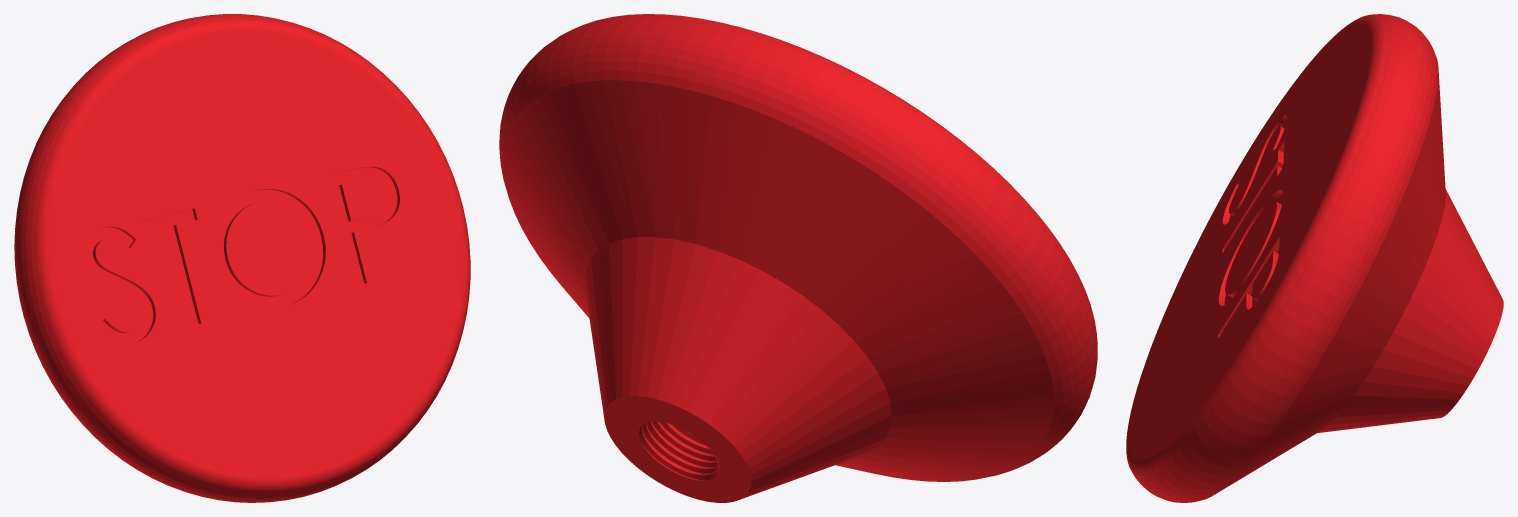
Rendered from BotaoStop.glb.
3 renders of one model, left to right at view 1: azimuth 30°, elevation 25°; view 2: azimuth 150°, elevation 25°; view 3: azimuth 270°, elevation 25°, orthographic. The views are drawn at different scales.
Parts seen in each view (by area): view 1: node_id3; view 2: node_id3; view 3: node_id3.
Boxes of the visible parts, box(x1,y1,x2,y2) form: node_id3: box(14, 14, 470, 502); node_id3: box(499, 14, 1097, 502); node_id3: box(1126, 14, 1503, 502).
Bounding box in the file's own units: 0.5119 × 0.4575 × 0.3596.
Materials: 1 (1 with a texture image).
